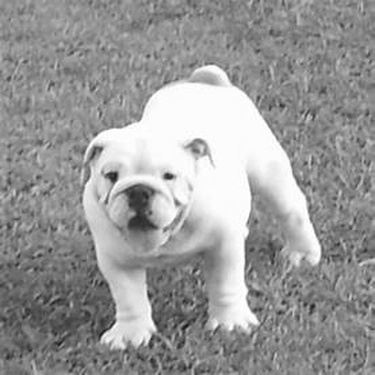dog: (61, 53, 325, 358)
